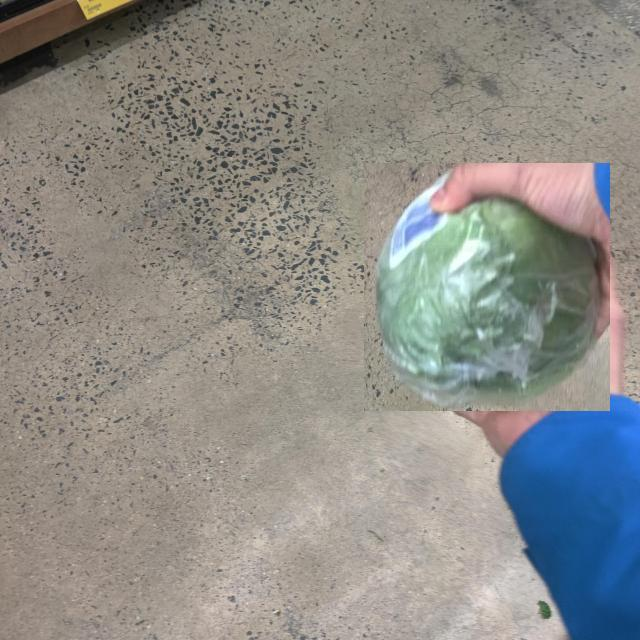Cabbage: (364, 163, 610, 411)
